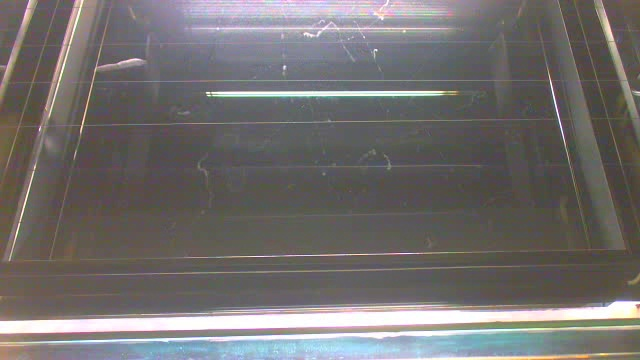Alfa: (93, 56, 148, 73)
